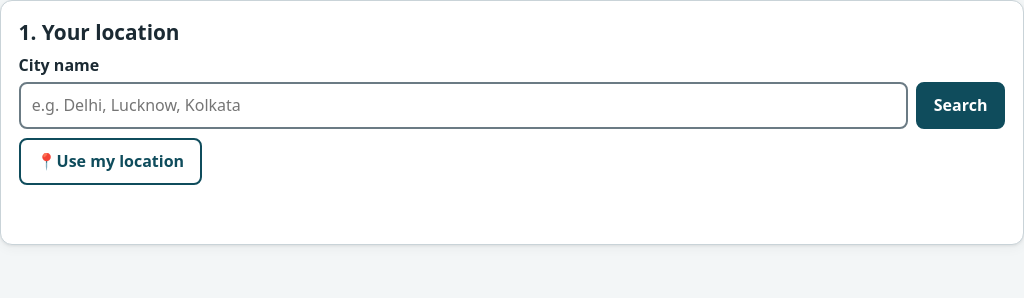
Test case: LocationSearch › explains when location permission is denied
The image size is (1024, 298).
Click the button "📍 Use my location".
click(110, 161)  # box [19,138,202,185]
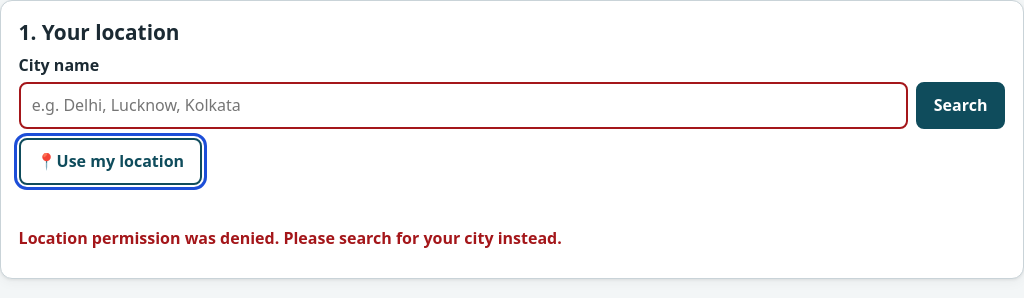
Check: the message "Location permission was denied. Please search for your city instead." is shown, box [19,227,562,249]
